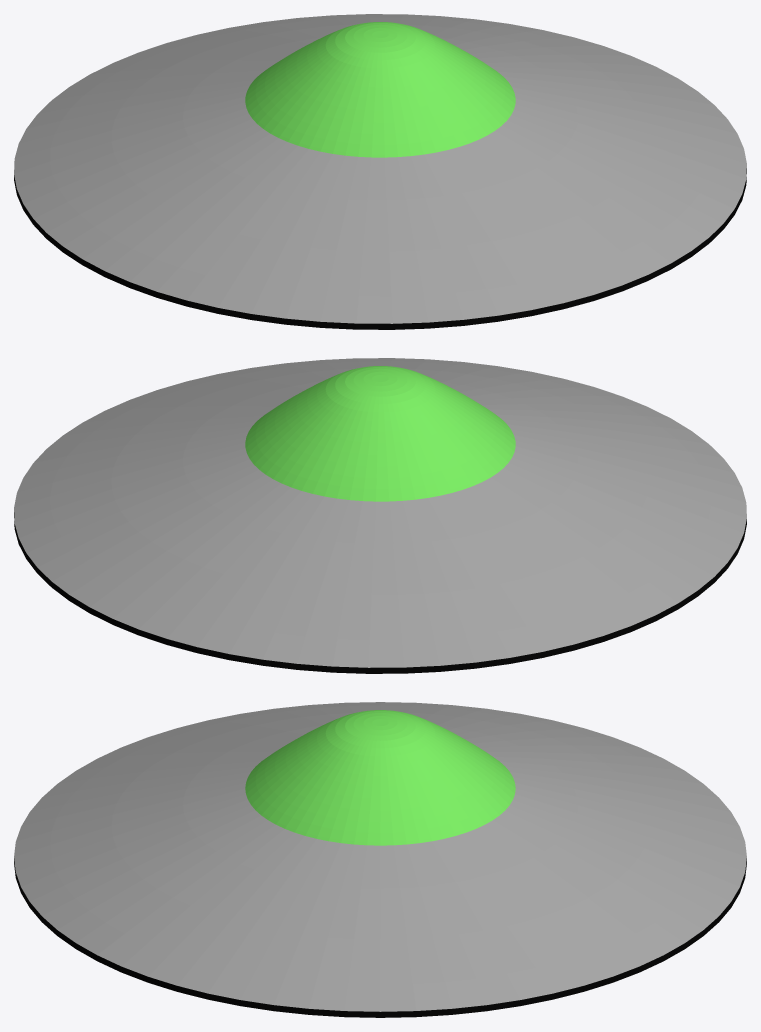
Rendered from ufo_mk1.fbx.
3 views of the same model, one above another, from view 1: azimuth 30°, elevation 25°; view 2: azimuth 150°, elevation 25°; view 3: azimuth 270°, elevation 25° (orthographic).
Visible parts, largest first — view 1: Cylinder; view 2: Cylinder; view 3: Cylinder.
Part boxes in pixels (bbox=[...]): Cylinder: bbox=[14, 14, 746, 329]; Cylinder: bbox=[14, 358, 746, 673]; Cylinder: bbox=[14, 702, 746, 1017].
Size of the model in its own units: 524 by 196 by 524.
